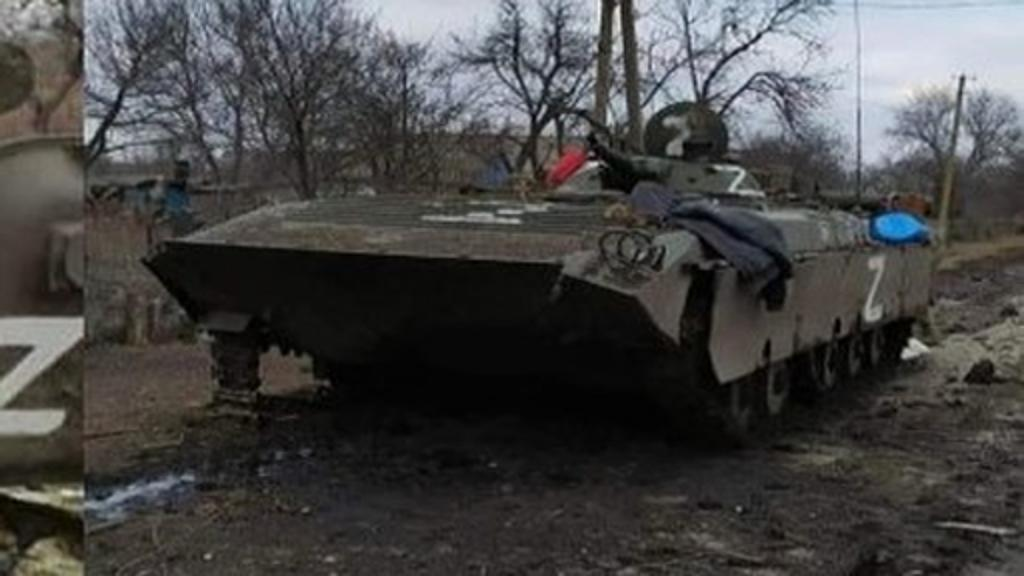APC-IFV: (138, 118, 936, 434)
